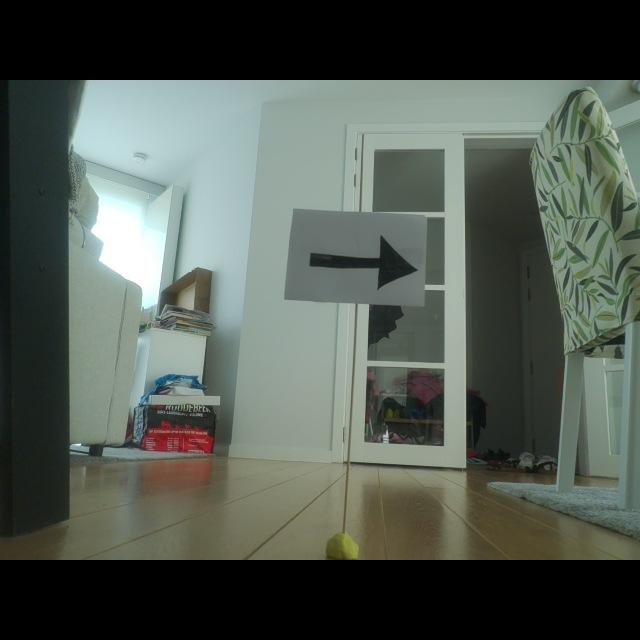jobbra_nyil: (309, 236, 416, 289)
